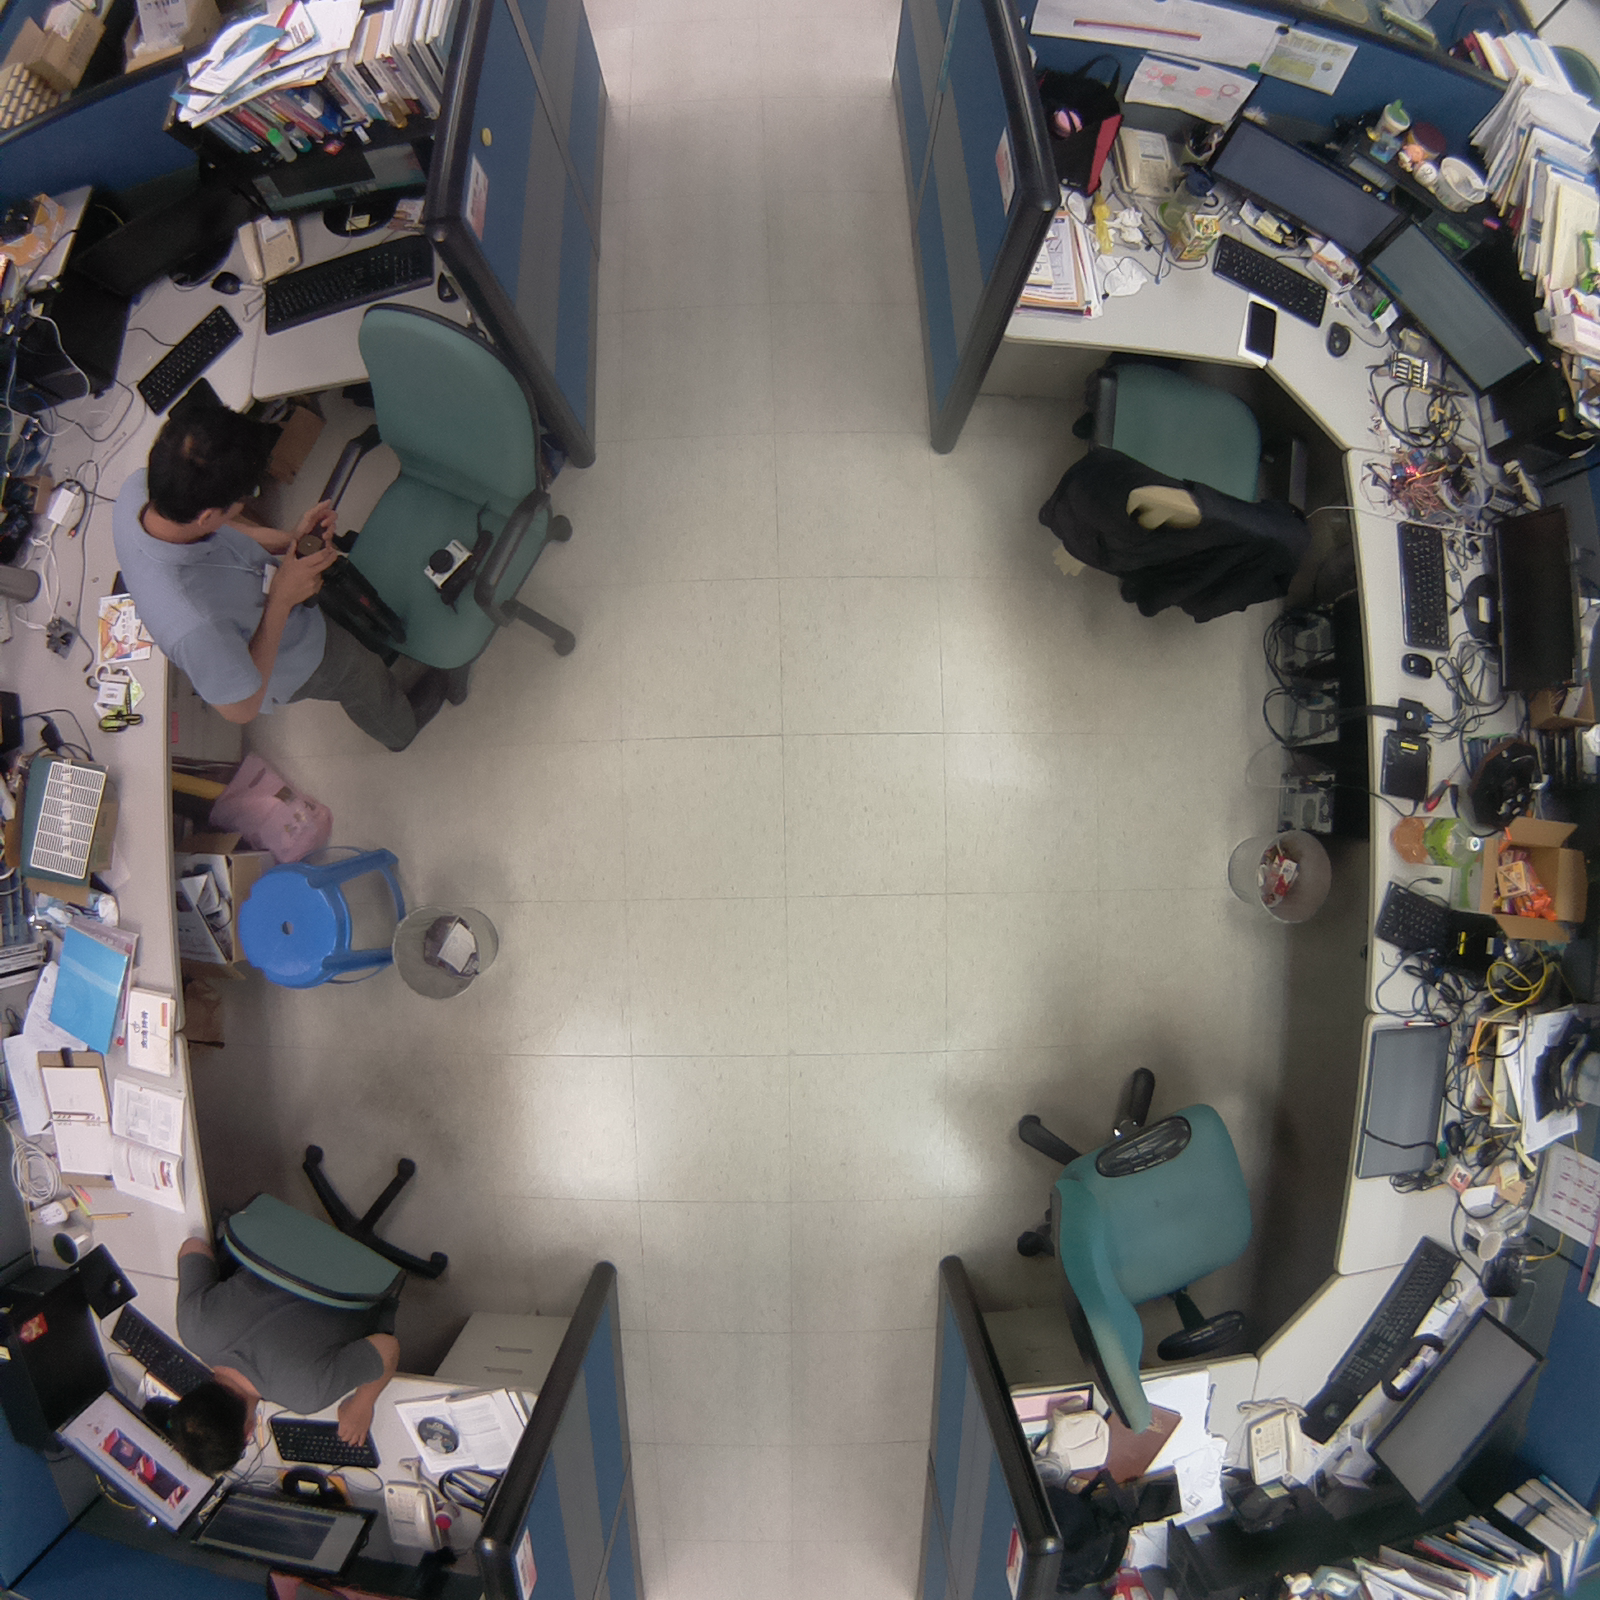chair: (286, 291, 596, 709), (1001, 1045, 1270, 1442), (1029, 342, 1319, 642)
head: (139, 389, 277, 529), (162, 1365, 266, 1483)
sitting: (139, 1119, 476, 1481)
standing: (93, 392, 481, 764)
